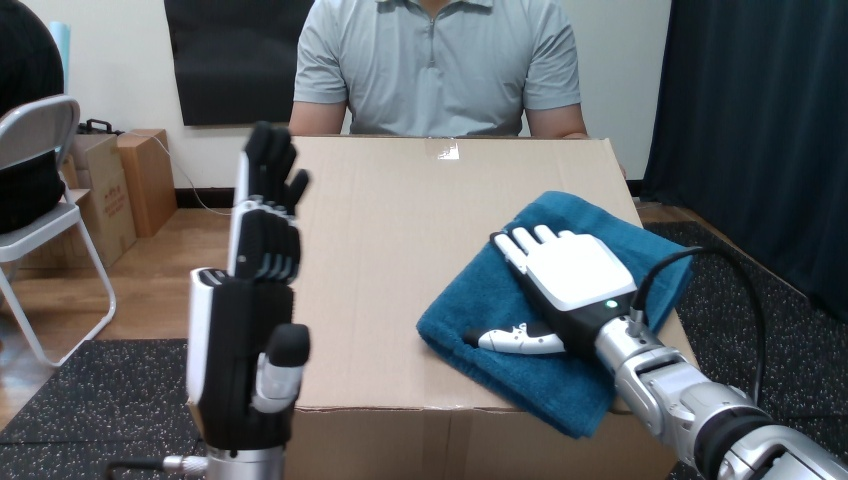left robot hand: (471, 226, 847, 478), (107, 122, 309, 479)
